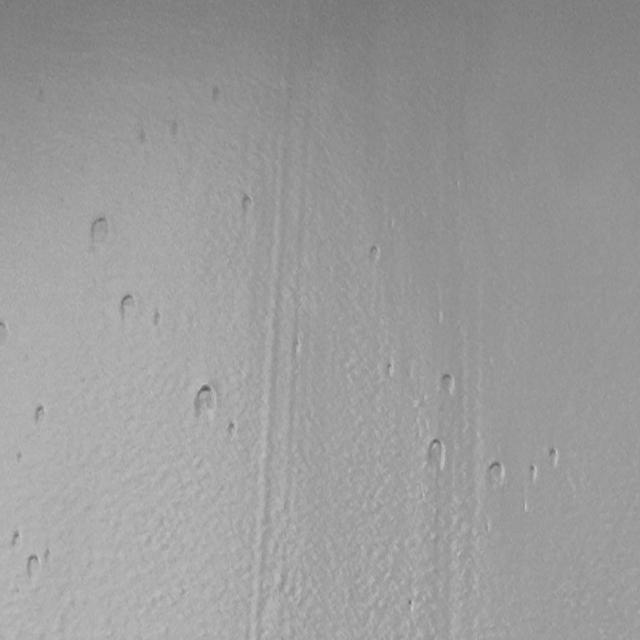pin holes: (87, 210, 114, 250), (192, 386, 221, 421), (423, 438, 446, 471), (482, 459, 505, 490), (116, 291, 138, 321), (22, 553, 42, 585), (31, 402, 52, 430), (437, 371, 458, 398), (238, 192, 258, 218), (208, 84, 229, 108), (364, 244, 384, 268), (167, 119, 186, 144), (134, 126, 153, 150), (382, 360, 401, 382), (547, 445, 563, 470), (0, 318, 12, 346), (526, 462, 540, 485), (10, 530, 24, 553), (152, 307, 166, 330), (226, 419, 239, 439), (404, 596, 417, 612), (15, 449, 27, 465), (294, 339, 302, 358), (522, 500, 528, 514)
